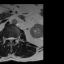CCS_normal: (9, 35, 12, 43)
LFS_normal: (14, 36, 16, 40)
LLS_normal: (12, 35, 14, 41)
RFS_normal: (6, 36, 7, 41)
RLS_normal: (8, 35, 9, 42)
